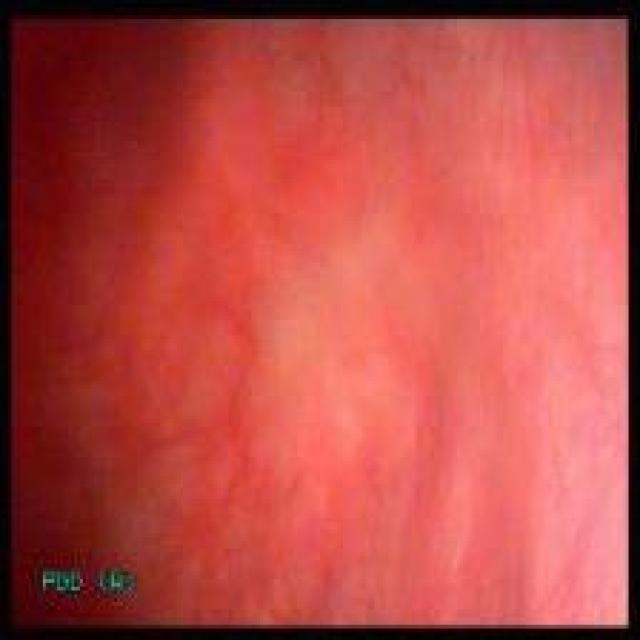blur: (10, 18, 627, 624)
color misalignment: (38, 564, 80, 593), (92, 567, 137, 591)
contrast: (12, 456, 158, 624)
